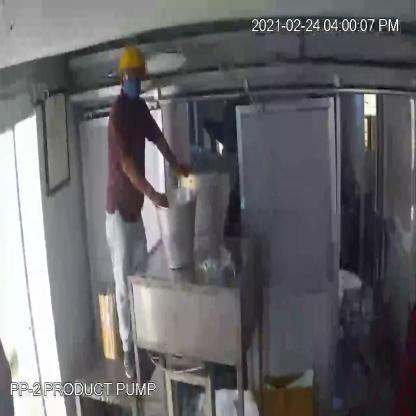helmet: (114, 42, 152, 86)
